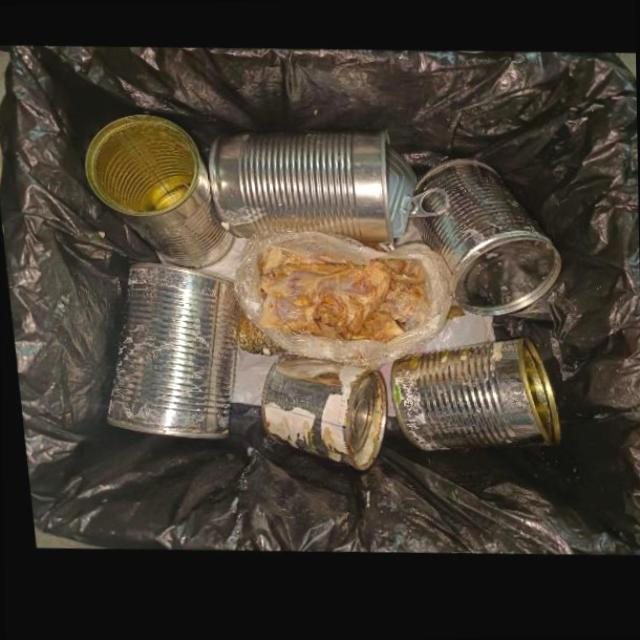nhom: (204, 130, 443, 246), (405, 160, 556, 321), (97, 267, 235, 442), (79, 119, 228, 271), (382, 339, 551, 454), (253, 357, 380, 473)
thuc_an_thua: (255, 253, 430, 340)
